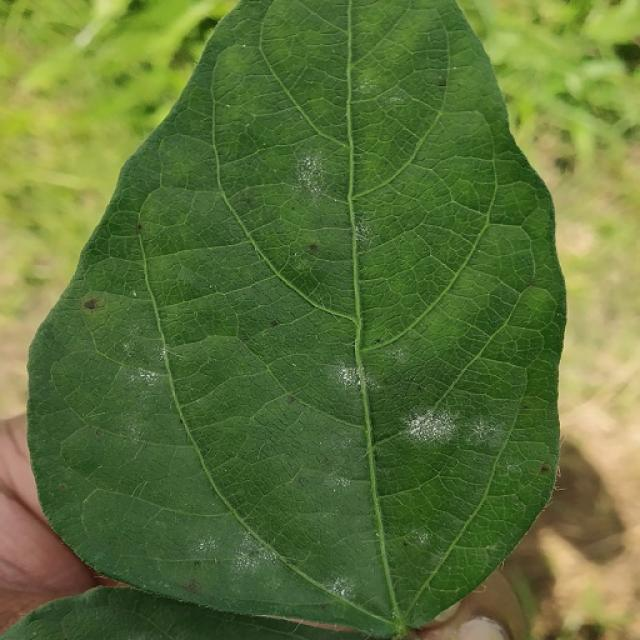Blackgram: (30, 0, 565, 635)
Powdery_Mildew: (325, 356, 485, 450), (339, 362, 405, 396), (332, 356, 379, 403), (228, 539, 270, 575), (296, 152, 328, 194), (328, 575, 356, 600), (193, 534, 220, 558), (125, 416, 148, 444), (133, 367, 160, 385), (353, 222, 371, 245), (339, 367, 356, 386), (357, 79, 378, 94), (334, 474, 352, 489), (122, 338, 135, 357), (414, 531, 430, 546), (388, 95, 403, 103), (198, 540, 207, 551), (131, 290, 137, 297), (291, 361, 297, 367), (375, 531, 380, 538), (208, 284, 213, 289), (225, 104, 231, 108), (452, 66, 458, 70), (294, 252, 298, 257), (242, 44, 247, 48)
